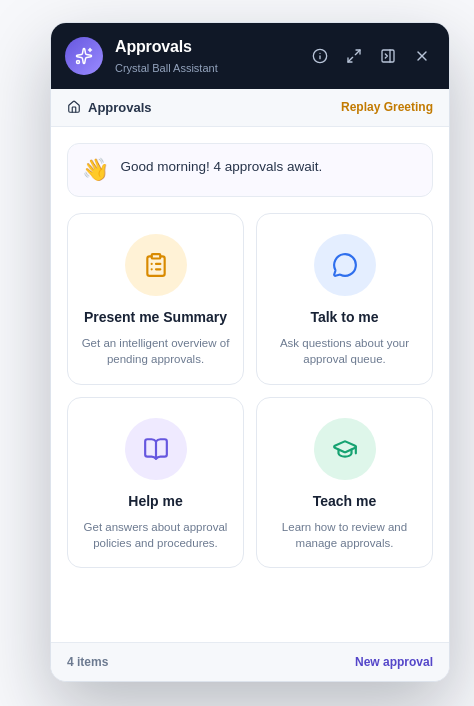
Scenario: AssistantPanel › Talk to me: chat states › ERROR: a server error event shows a friendly alert and keeps the partial answer
Click the button "Talk to me Ask questions about your approval queue." at coordinates (344, 299), box x1=256 y1=213 x2=433 y2=385
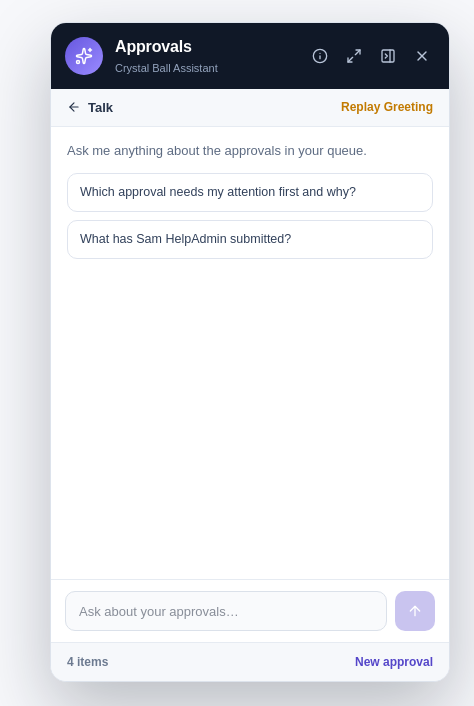
Type "Hi" into the field named "message" at coordinates (226, 611), box x1=65 y1=591 x2=387 y2=631
Then press Enter
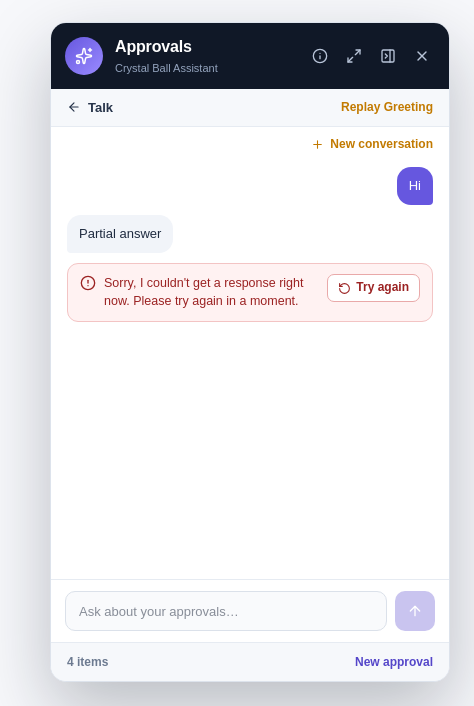
Result: the field named "message" is enabled at x1=65 y1=591 x2=387 y2=631
Result: the message shows "couldn't get a response" at x1=104 y1=276 x2=304 y2=308
Result: the text "Partial answer" is shown at x1=79 y1=224 x2=161 y2=244
